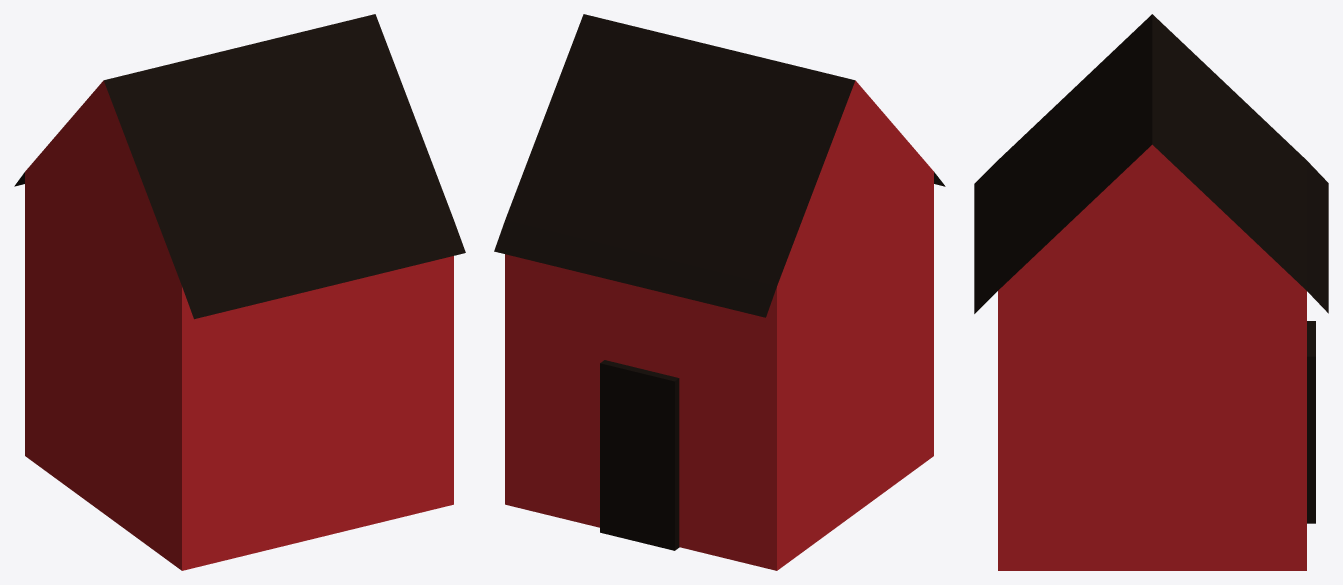
Rendered from house.glb.
3 views of the same model, side by side, from view 1: azimuth 30°, elevation 25°; view 2: azimuth 150°, elevation 25°; view 3: azimuth 270°, elevation 25° (orthographic).
Parts seen in each view (by area): view 1: Cube; view 2: Cube, Cube.001; view 3: Cube, Cube.001.
Boxes of the visible parts, <box> form: Cube: <box>14,14,465,570</box>; Cube: <box>494,14,945,570</box>; Cube.001: <box>600,360,679,550</box>; Cube: <box>974,14,1328,570</box>; Cube.001: <box>1307,321,1315,523</box>.
Size of the model in its own units: 1.21 by 1.84 by 1.39.
